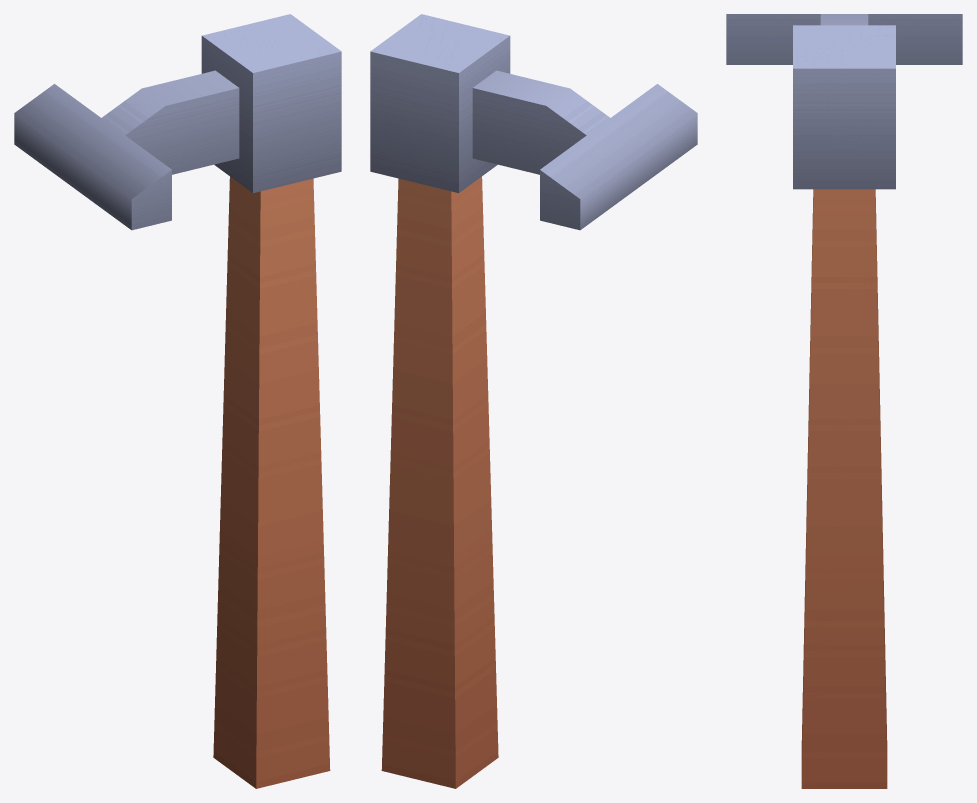
File: tool-hoe.glb
3 renders of one model, left to right at view 1: azimuth 30°, elevation 25°; view 2: azimuth 150°, elevation 25°; view 3: azimuth 270°, elevation 25°, orthographic.
Visible parts, largest first — view 1: tool-hoe; view 2: tool-hoe; view 3: tool-hoe.
Boxes of the visible parts, box(x1,y1,x2,y2) form: tool-hoe: box(14, 14, 341, 788); tool-hoe: box(370, 14, 697, 788); tool-hoe: box(726, 14, 962, 788).
Size of the model in its own units: 0.0848 by 0.24 by 0.0709.
Materials: 1 (1 with a texture image).
